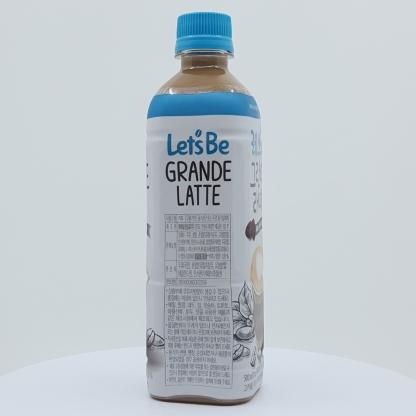--------500ML: (145, 12, 263, 407)
